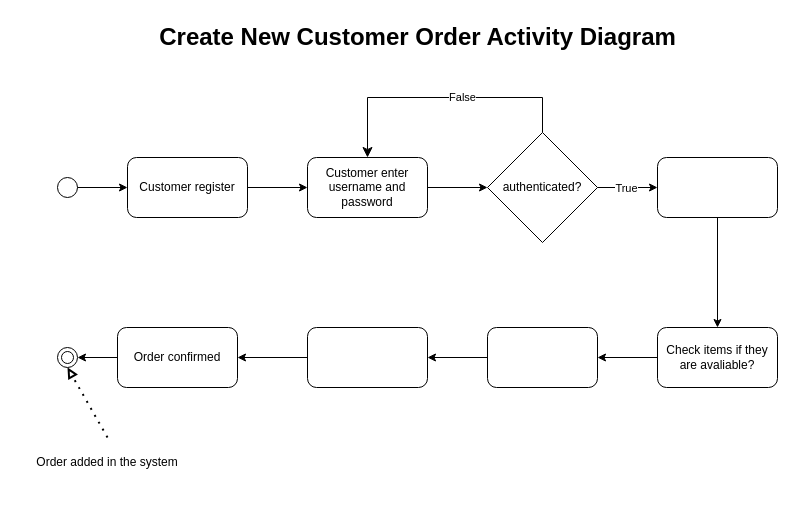
Image size: 795x507. Some labels were removed from this diagram. Here are the shapes that lost their labels. From the top down, the centre of each, then its label:
At (717,187): "Customer add items to cart".
At (367,357): "Payment".
At (542,357): "Order details".
